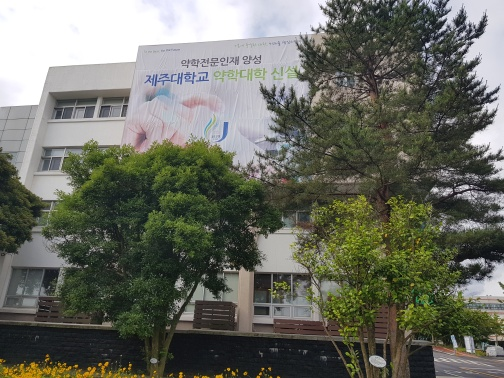Main Building of University: (11, 28, 424, 361)
